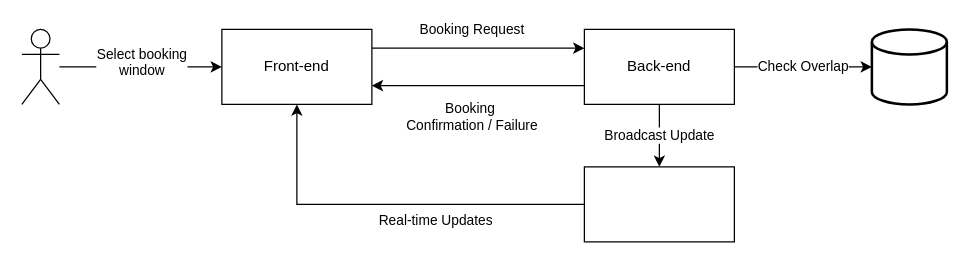
Image size: 970x268. Some labels were removed from this diagram. The centre of each missing label's shape, as x and y in pixels:
Database: (x=909, y=66)
WebSocket Server: (x=658, y=204)
